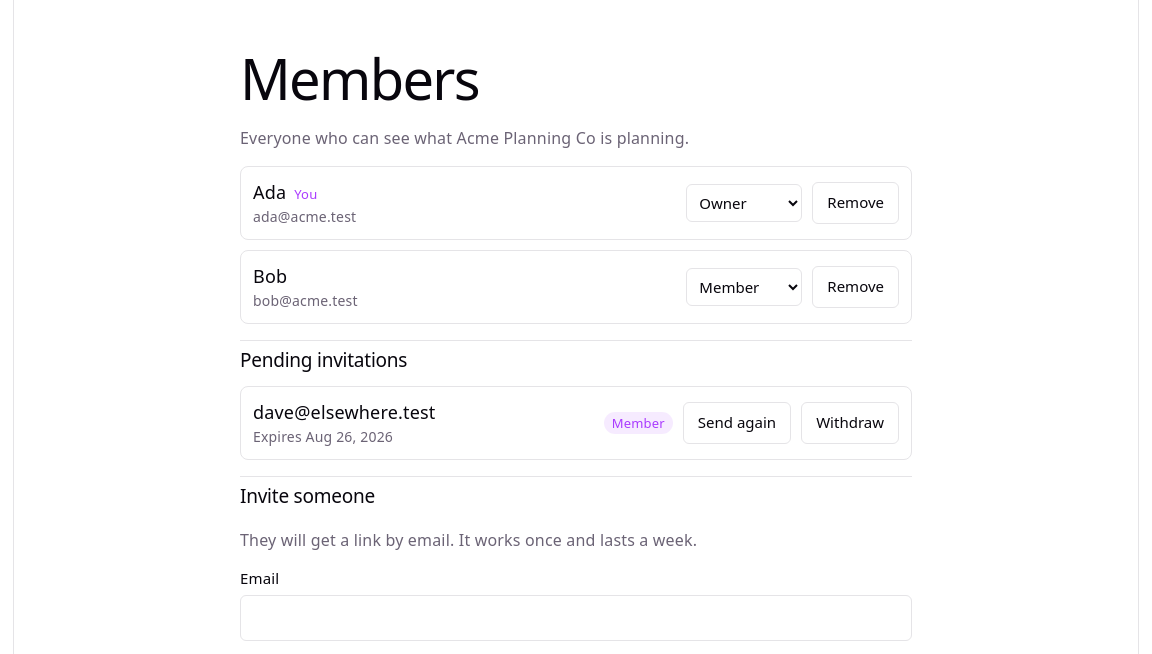
Test: MembersPage › says so when a change would leave the organisation with no owner
expect the text "Ada" is shown: met, box [253,180,286,204]
Select "Member" in the dropdown named "Role for Ada" in the row of "You". click: (744, 203)
box: [686,184,802,222]
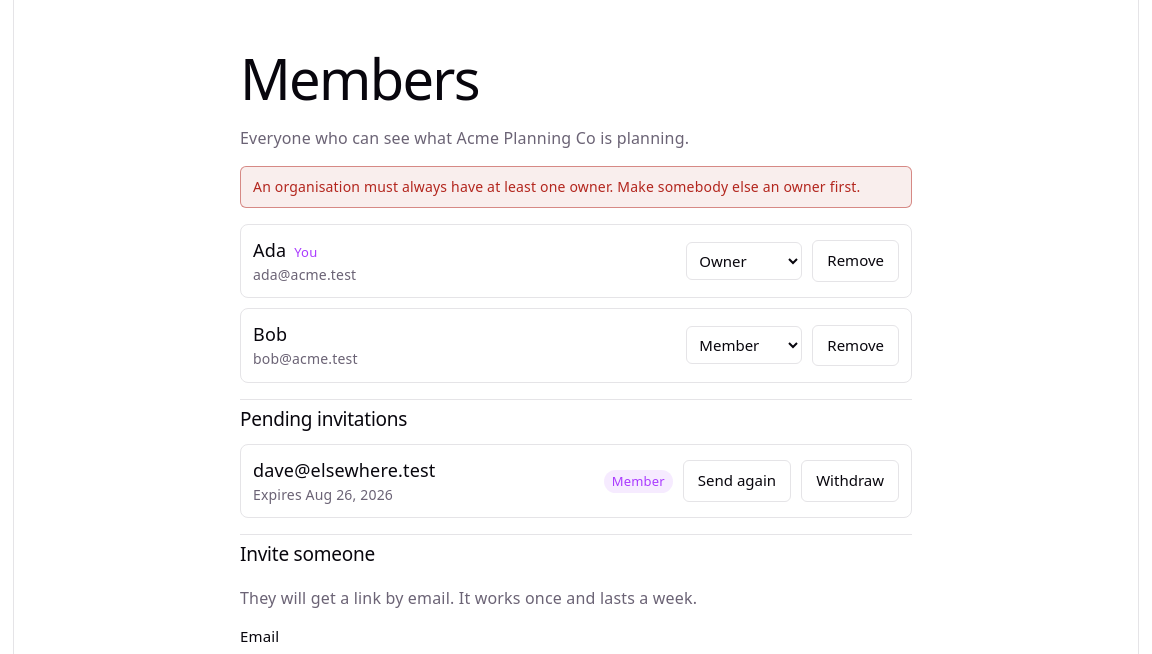
expect the message shows "must always have at least one owner": met, box [253,177,860,196]
